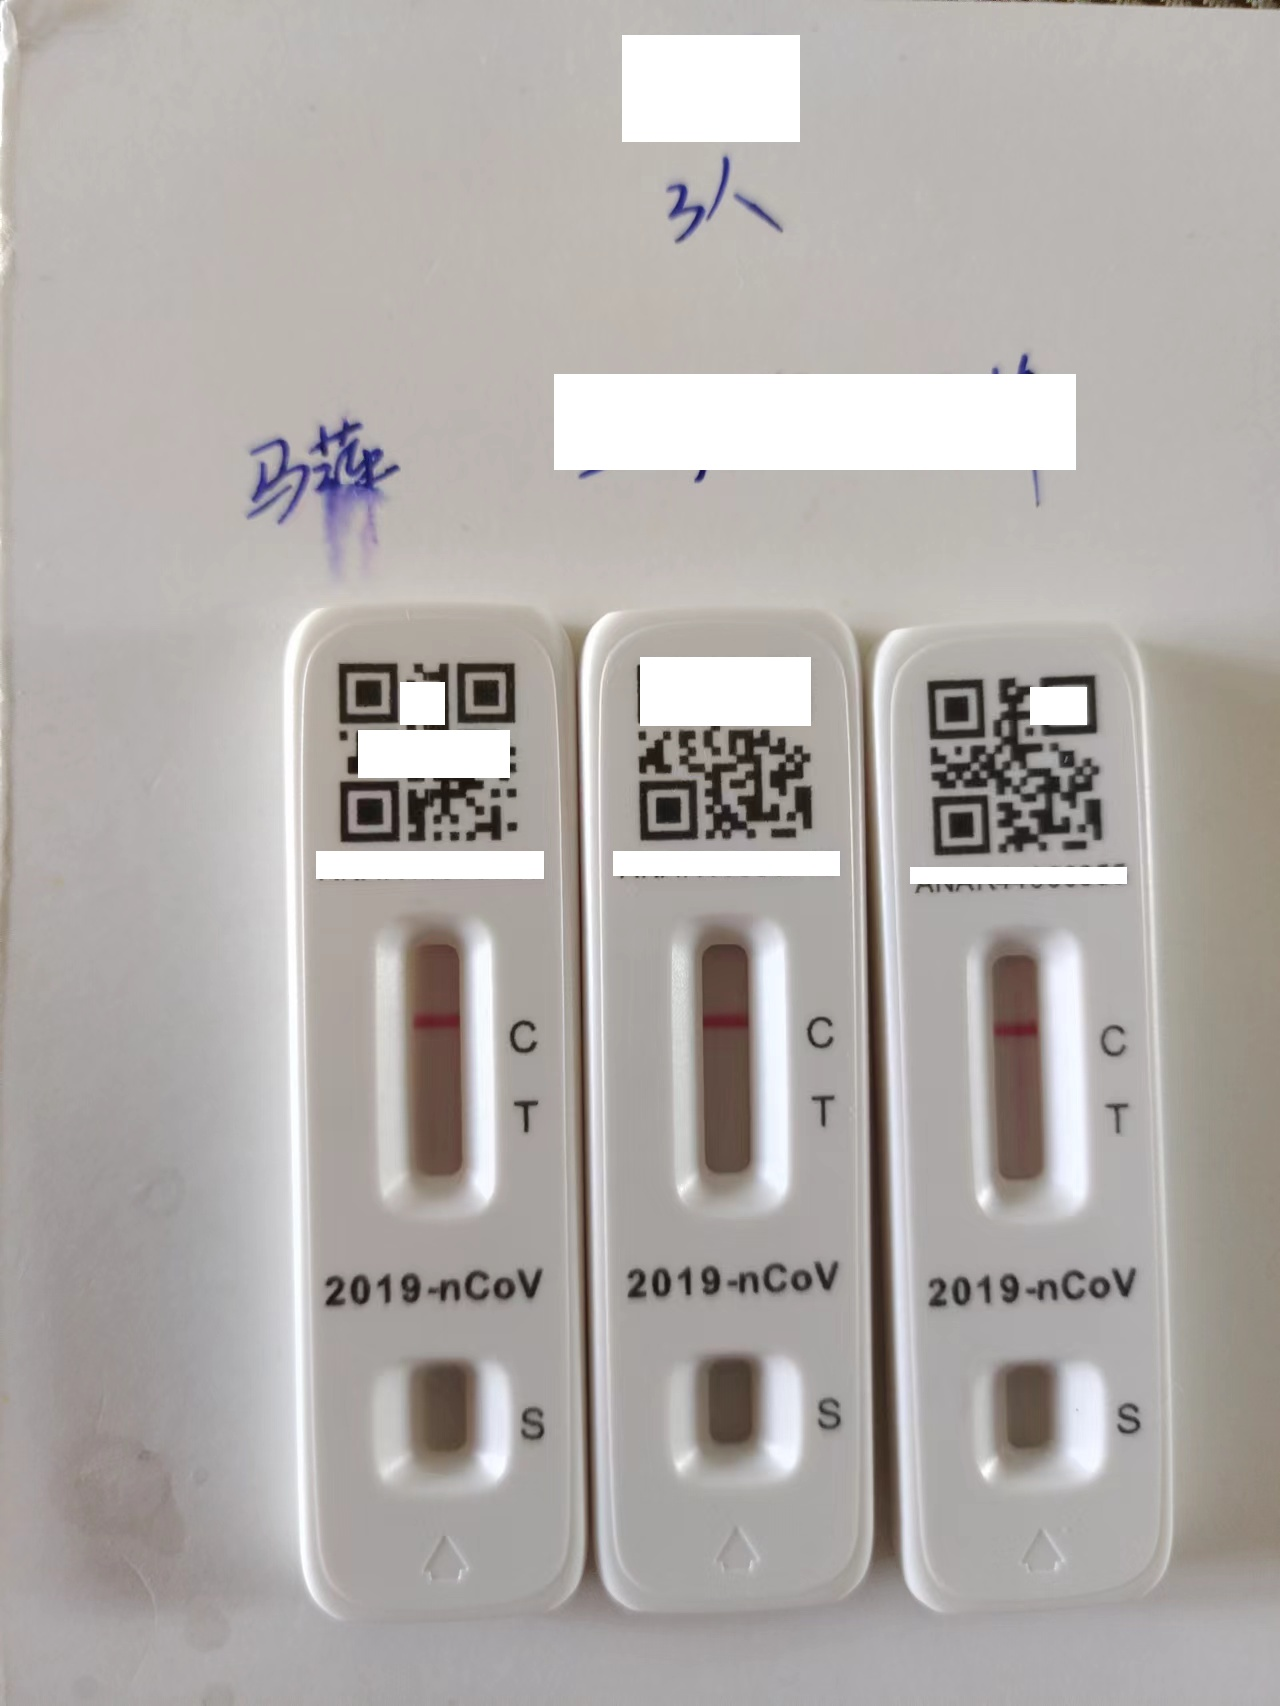negative: (370, 911, 493, 1219), (968, 924, 1084, 1233), (670, 911, 783, 1221)
